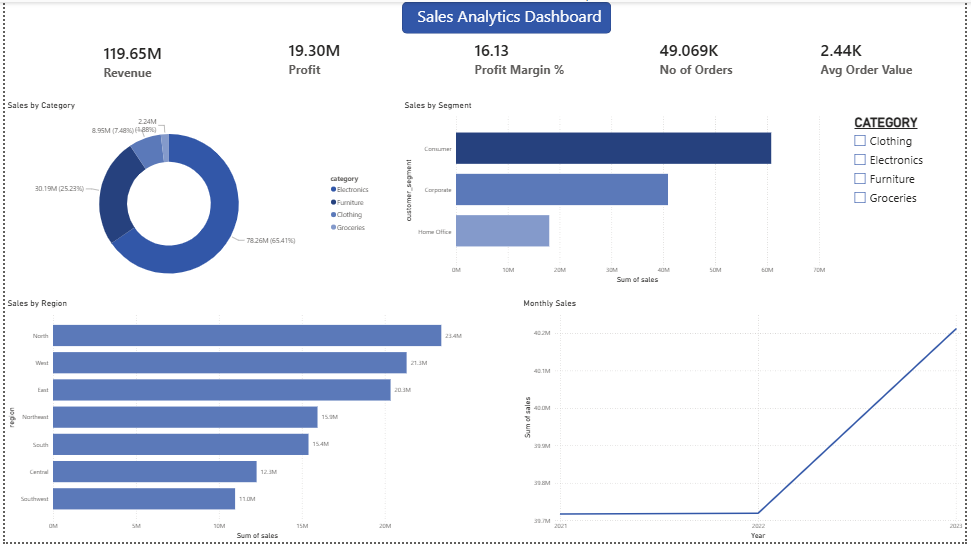

The dashboard page shown, as its layout file describes it:
{"tool":"powerbi","page":{"name":"Page 1","canvas":[1920,1080],"ordinal":0},"visuals":[{"type":"cardVisual","fields":{"Data":["Sum(retail_sales_clean.sales)"]},"box":[167.5,55,205,120],"z":0},{"type":"cardVisual","fields":{"Data":["Sum(retail_sales_clean.profit)"]},"box":[537.5,50,205,120],"z":1000},{"type":"cardVisual","fields":{"Data":["Avg(retail_sales_clean.sales)"]},"box":[1602,51,244.9,118.4],"z":2000},{"type":"cardVisual","fields":{"Data":["Count(retail_sales_clean.order_id)"]},"box":[1279.6,51,220.4,118.4],"z":3000},{"type":"cardVisual","fields":{"Data":["retail_sales_clean.Profit Margin %"]},"box":[910.2,51,244.9,118.4],"z":4000},{"type":"clusteredBarChart","title":"Sales by Region","fields":{"Y":["Sum(retail_sales_clean.sales)"],"Category":["retail_sales_clean.region"]},"box":[0,591.8,930.6,487.8],"z":5000},{"type":"lineChart","title":"Monthly Sales","fields":{"Y":["Sum(retail_sales_clean.sales)"],"Category":["Date Table.Date.Variation.Date Hierarchy.Year"]},"box":[1032.7,591.8,887.8,487.8],"z":6000},{"type":"donutChart","title":"Sales by Category","fields":{"Category":["retail_sales_clean.category"],"Y":["Sum(retail_sales_clean.sales)"]},"box":[0,195.9,740.8,395.9],"z":7000},{"type":"clusteredBarChart","title":"Sales by Segment","fields":{"Category":["retail_sales_clean.customer_segment"],"Y":["Sum(retail_sales_clean.sales)"]},"box":[793.9,195.9,851,371.4],"z":8000},{"type":"slicer","title":"Slicer","fields":{"Values":["retail_sales_clean.category"]},"box":[1685.7,220.4,234.7,216.3],"z":9000},{"type":"shape","box":[793.9,0,418.4,63.3],"z":10000},{"type":"textbox","box":[820.4,0,391.8,63.3],"z":11000}]}

Visuals, with their boxes in screenshot pixels (x1, y1, x2, y2), scaled from the page's 1920x1080 canvas onto the 971x546 screenshot:
cardVisual - Sum(retail_sales_clean.sales): x1=85, y1=28, x2=188, y2=88
cardVisual - Sum(retail_sales_clean.profit): x1=272, y1=25, x2=376, y2=86
cardVisual - Avg(retail_sales_clean.sales): x1=810, y1=26, x2=934, y2=86
cardVisual - Count(retail_sales_clean.order_id): x1=647, y1=26, x2=759, y2=86
cardVisual - retail_sales_clean.Profit Margin %: x1=460, y1=26, x2=584, y2=86
"Sales by Region" clusteredBarChart: x1=0, y1=299, x2=471, y2=545
"Monthly Sales" lineChart: x1=522, y1=299, x2=970, y2=545
"Sales by Category" donutChart: x1=0, y1=99, x2=375, y2=299
"Sales by Segment" clusteredBarChart: x1=401, y1=99, x2=832, y2=287
"Slicer" slicer: x1=853, y1=111, x2=970, y2=221
shape: x1=401, y1=0, x2=613, y2=32
textbox: x1=415, y1=0, x2=613, y2=32
